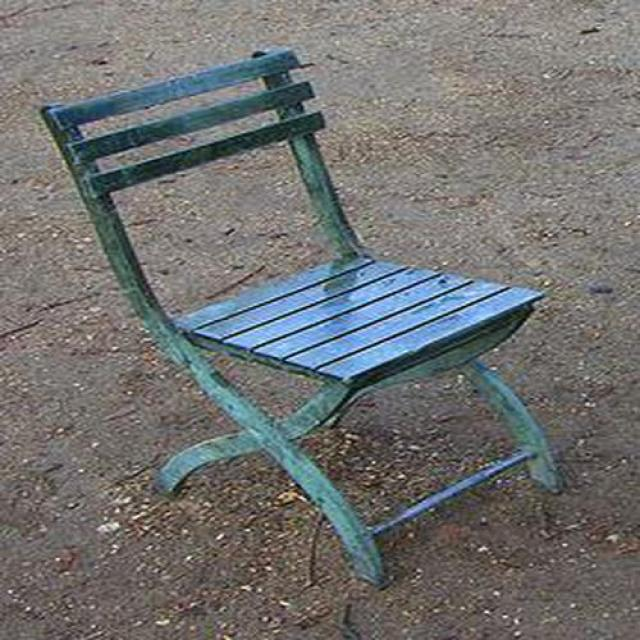chair: (40, 47, 563, 591)
